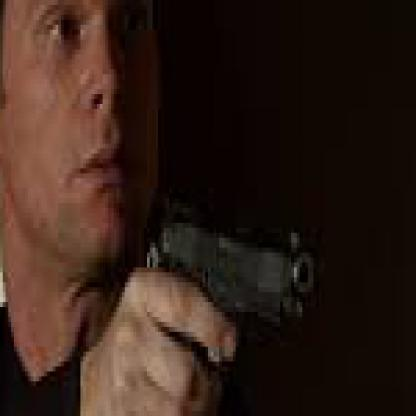gun: (277, 63, 394, 233)
